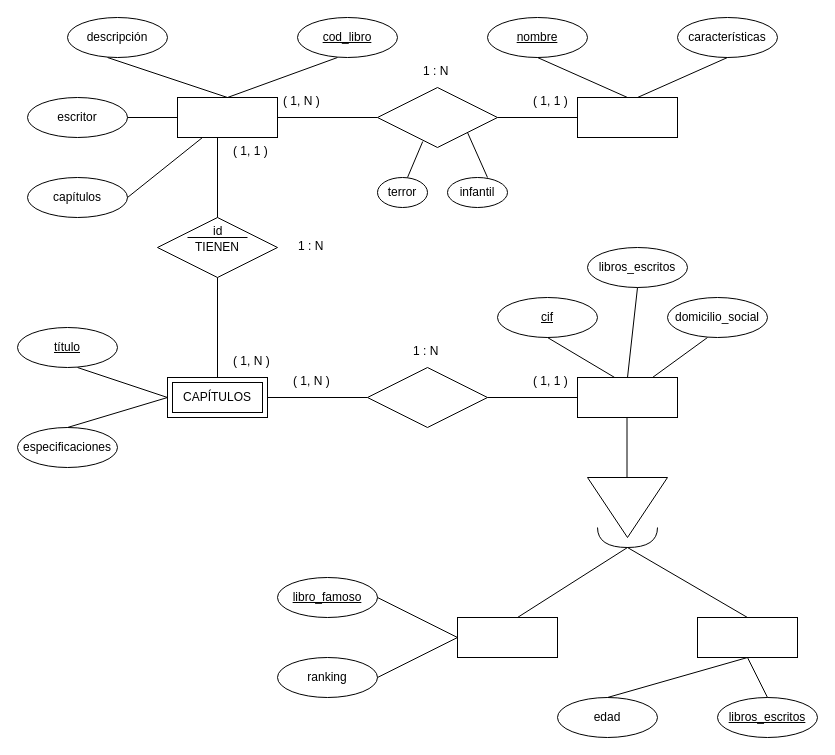
The diagram is 835 pixels wide and 755 high, and some of its shapes have lost their labels. Here are the shapes that lost their labels. From the top down, the centre of each, then its label:
the point at 227,117: LIBROS
the point at 437,117: CORRESPONDE
the point at 627,117: CATEGORÍA
the point at 427,397: ESCRIBEN
the point at 627,397: ESCRITORES
the point at 507,637: AUTORES_F
the point at 747,637: J_PROMESAS
